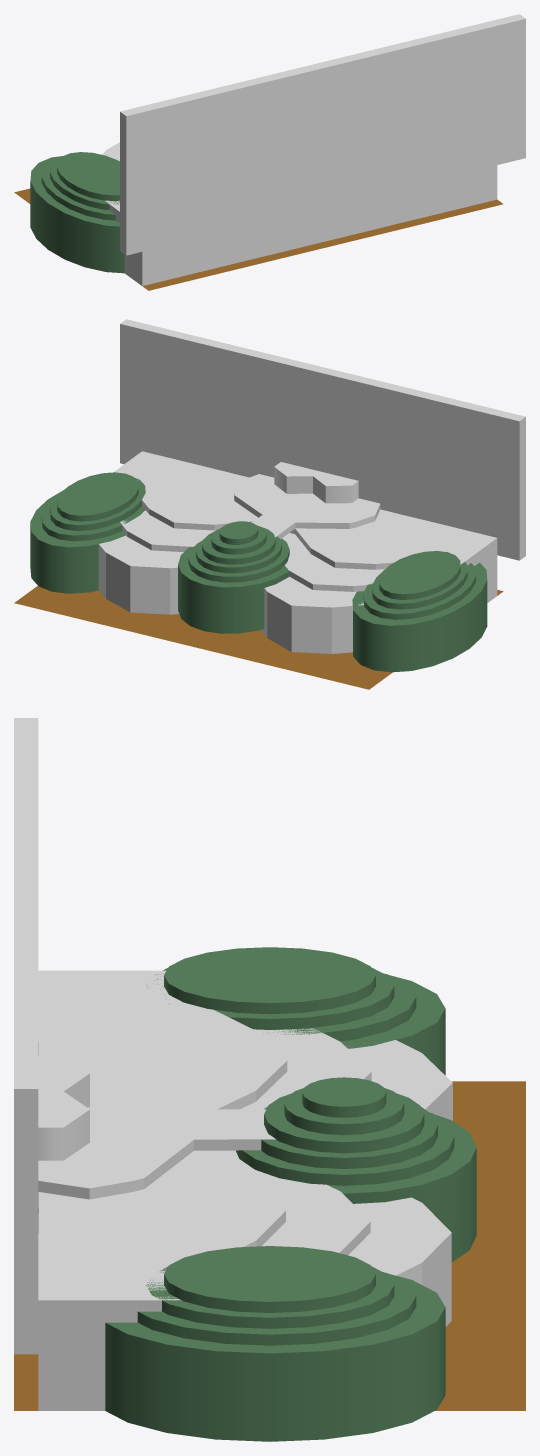
The model's file is Map 3.fbx.
The picture shows the model from 3 angles, top to bottom: view 1: azimuth 30°, elevation 25°; view 2: azimuth 150°, elevation 25°; view 3: azimuth 270°, elevation 25°; orthographic projection. The views are drawn at different scales.
Visible parts, largest first — view 1: Back Wall, Tier 1, Cylinder.050, Ground.004, Cylinder.053, Cylinder.051, Cylinder.052; view 2: Back Wall, Tier 3, Tier 1, Ground.004, Cylinder.050, Cylinder.054, Tier 4, Tier 2, Cylinder, Cylinder.049, Cylinder.053, Cube.052 (+9 smaller); view 3: Tier 3, Cylinder, Ground.004, Tier 1, Tier 4, Back Wall, Tier 2, Cylinder.053, Cylinder.049, Cylinder.054, Cylinder.045, Cube.052 (+9 smaller).
Part boxes in pixels (bbox=[...]): Back Wall: bbox=[120, 14, 525, 255]; Tier 1: bbox=[102, 142, 497, 285]; Cylinder.050: bbox=[30, 156, 124, 273]; Ground.004: bbox=[14, 188, 503, 290]; Cylinder.053: bbox=[57, 152, 119, 201]; Cylinder.051: bbox=[41, 157, 115, 220]; Cylinder.052: bbox=[50, 157, 119, 209]; Back Wall: bbox=[120, 319, 525, 560]; Tier 3: bbox=[113, 451, 497, 569]; Tier 1: bbox=[98, 535, 497, 653]; Ground.004: bbox=[14, 586, 503, 689]; Cylinder.050: bbox=[352, 562, 487, 672]; Cylinder.054: bbox=[178, 546, 289, 633]; Tier 4: bbox=[234, 474, 380, 539]; Tier 2: bbox=[120, 510, 497, 591]; Cylinder: bbox=[30, 490, 125, 593]; Cylinder.049: bbox=[57, 472, 138, 521]; Cylinder.053: bbox=[379, 551, 460, 599]; Cube.052: bbox=[274, 462, 358, 503]; Tier 3: bbox=[38, 970, 287, 1311]; Cylinder: bbox=[105, 1274, 445, 1441]; Ground.004: bbox=[14, 1081, 525, 1410]; Tier 1: bbox=[38, 1040, 452, 1410]; Tier 4: bbox=[38, 1060, 275, 1199]; Back Wall: bbox=[14, 718, 38, 1354]; Tier 2: bbox=[38, 1028, 371, 1322]; Cylinder.053: bbox=[164, 947, 375, 1014]; Cylinder.049: bbox=[164, 1246, 375, 1312]; Cylinder.054: bbox=[328, 1114, 476, 1262]; Cylinder.045: bbox=[137, 1272, 416, 1345]; Cube.052: bbox=[38, 1055, 89, 1160].
Size of the model in its own units: 7599 by 3100 by 4200.
